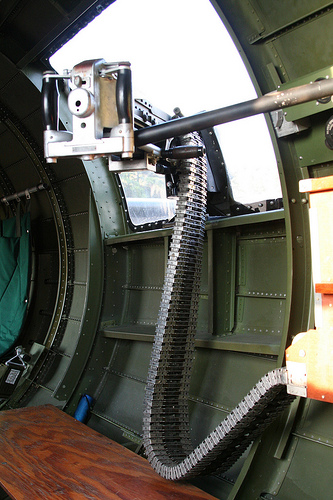rifle: (47, 74, 329, 421)
